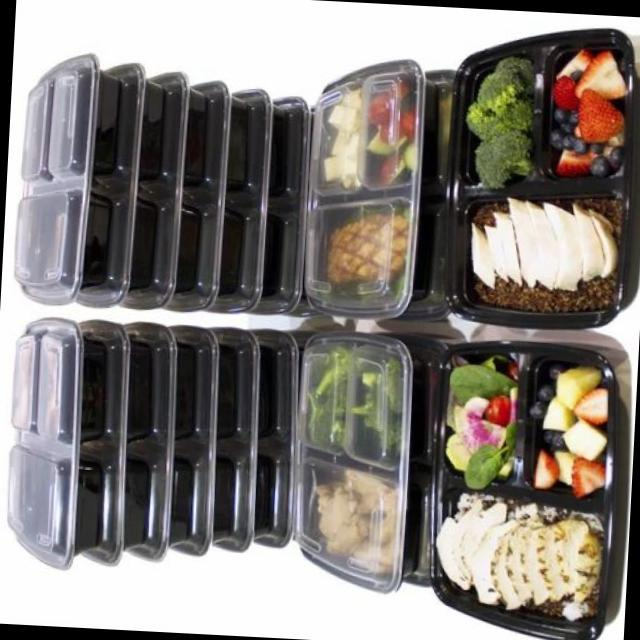plastic_box: (424, 329, 637, 640), (433, 21, 640, 333), (283, 316, 430, 597), (296, 39, 438, 325)
